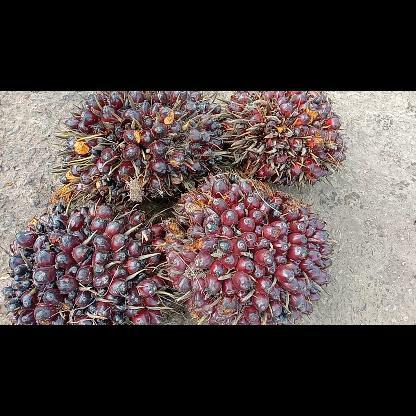Kurang masak: (0, 198, 175, 325), (57, 92, 224, 209), (222, 91, 350, 187)
TBS masak: (162, 168, 336, 324)
